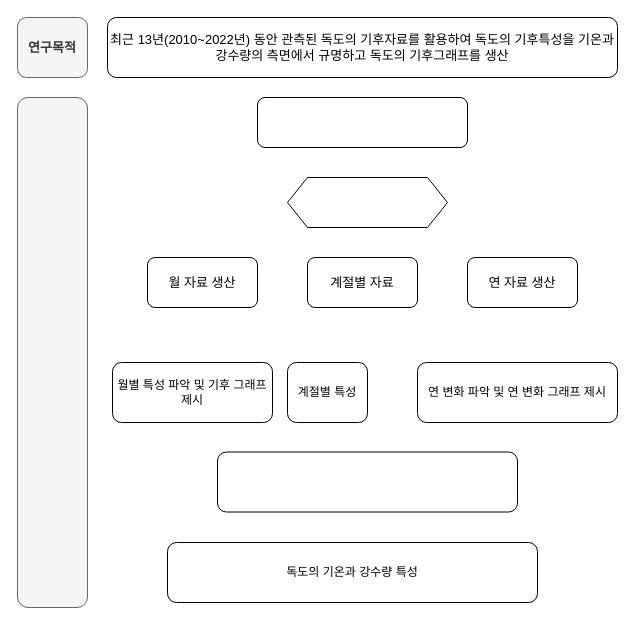
This 635x625 diagram has some shape labels left out. The shapes that lost their labels are listed below. From the top down, each one's centre as x and y in pixels, then its label:
At point (362, 122): "원자료: 일평균기온, 일강수량".
At point (367, 202): "데이터 검증 및 처리".
At point (52, 352): "연구 순서".
At point (367, 481): "기존 연구와의 비교, 인접 지역과의 기후 특성 비교".
